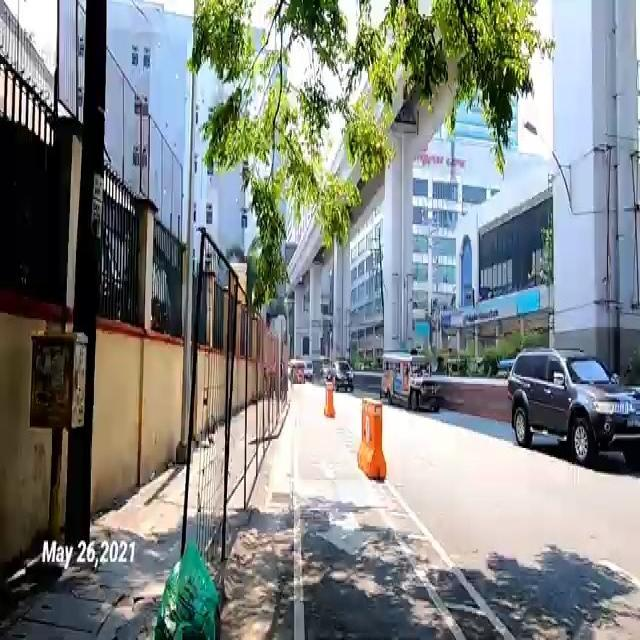car: (506, 344, 640, 468)
jeepney: (379, 350, 442, 415)
